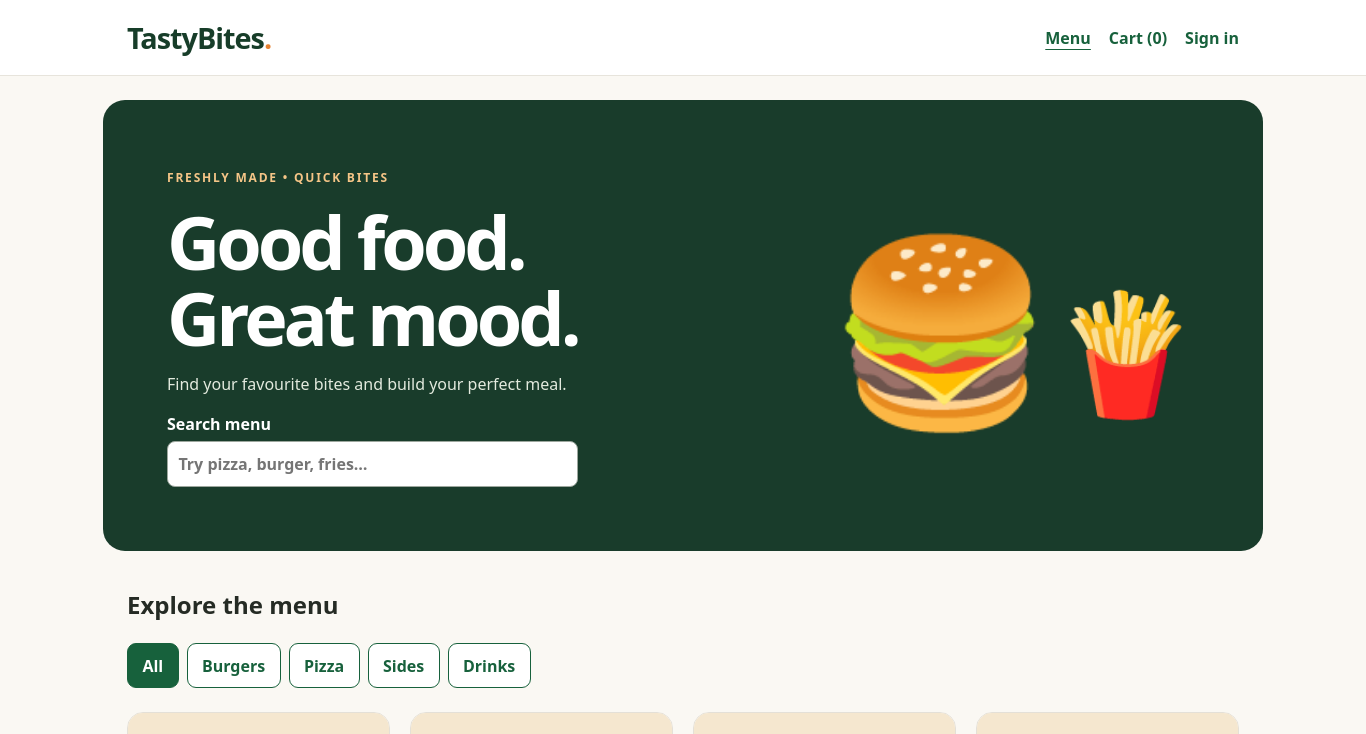
Test: demo sign in and sign out
Click the link "Sign in": (1212, 38) [1185,26,1239,50]
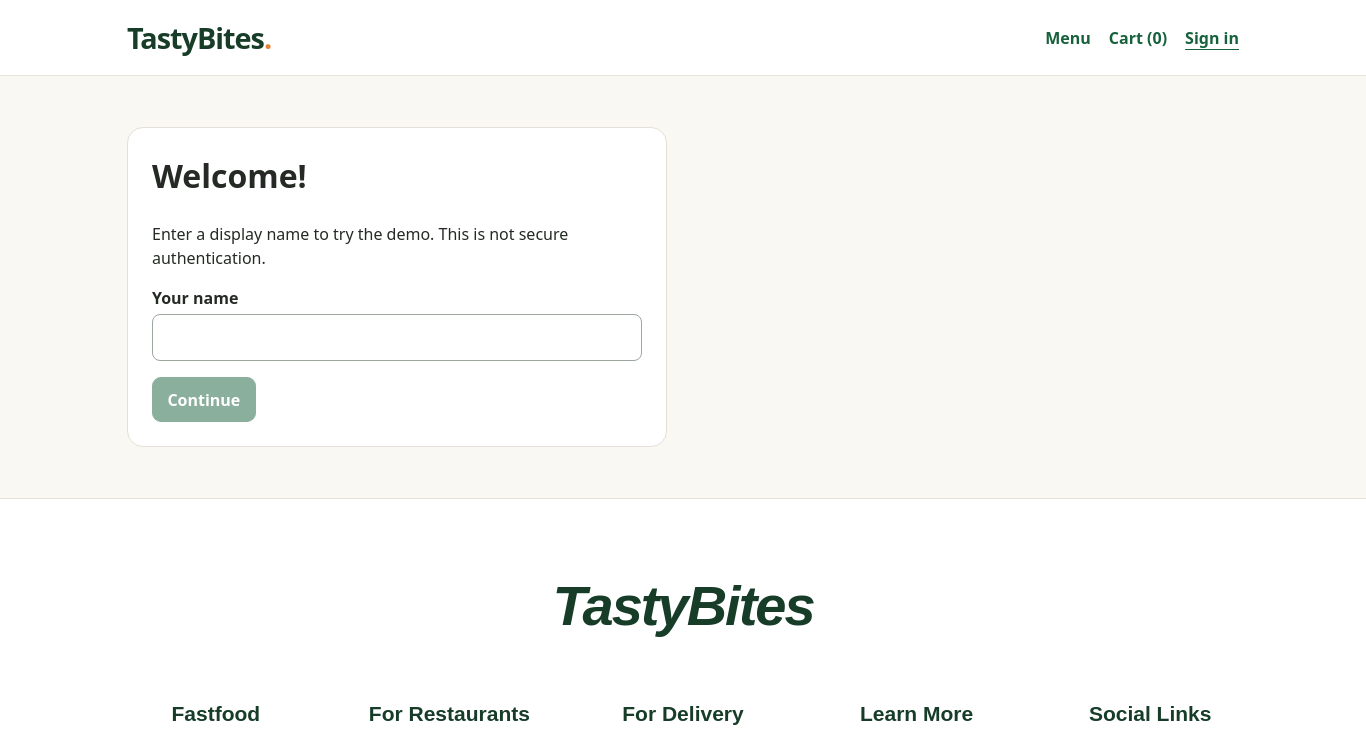
In the field labelled "Your name": (397, 338) [152,314,642,361], type "Alex"
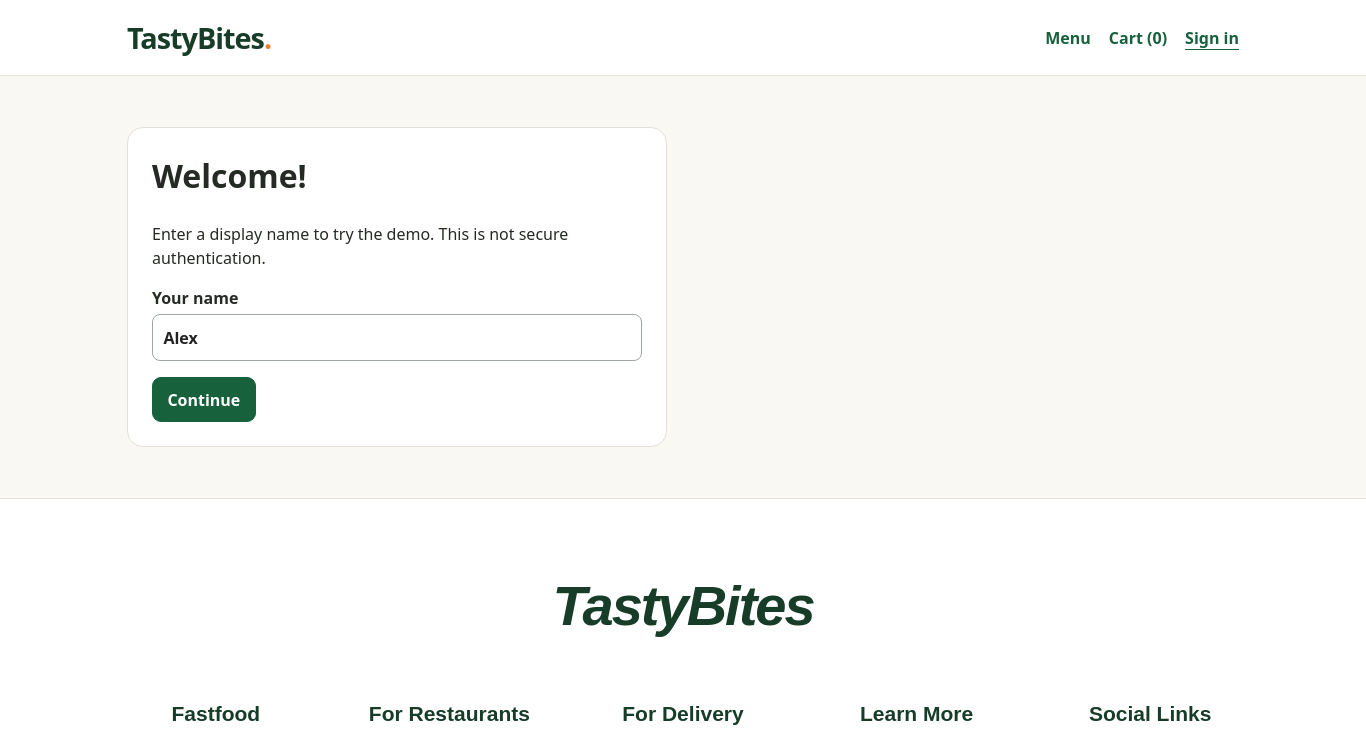
Click the button "Continue": (204, 400) [152,377,256,422]
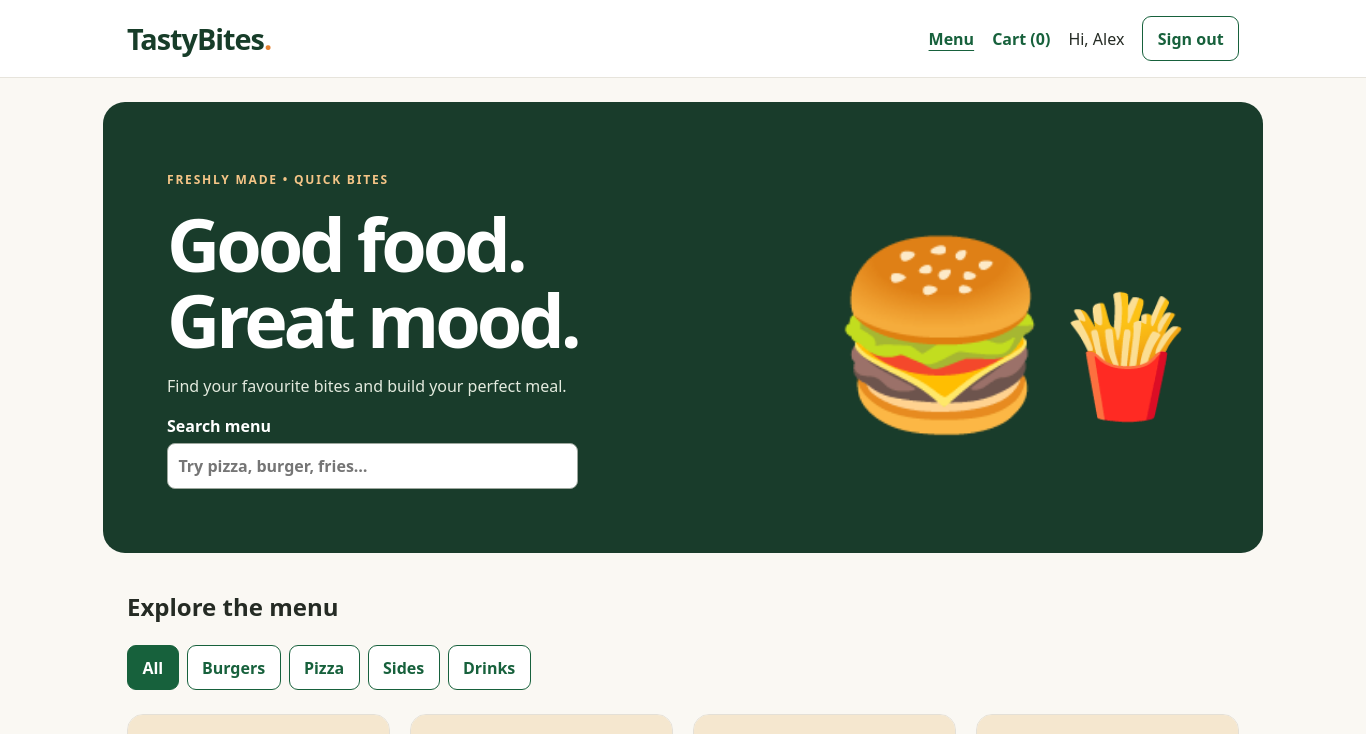
expect the text "Hi, Alex" is shown: met, box [1068,27,1124,51]
Click the button "Sign out": (1191, 39) [1142,16,1239,61]
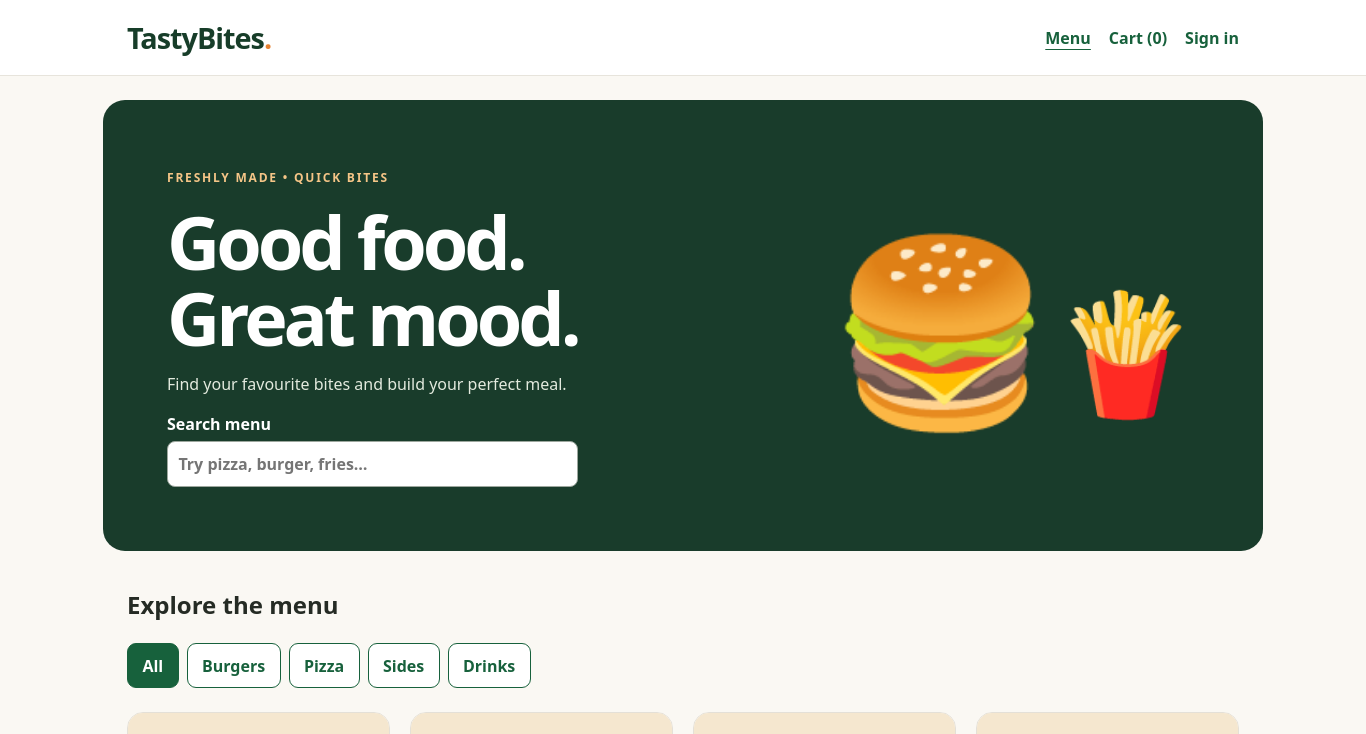
expect the link "Sign in" is shown: met, box [1185,26,1239,50]
